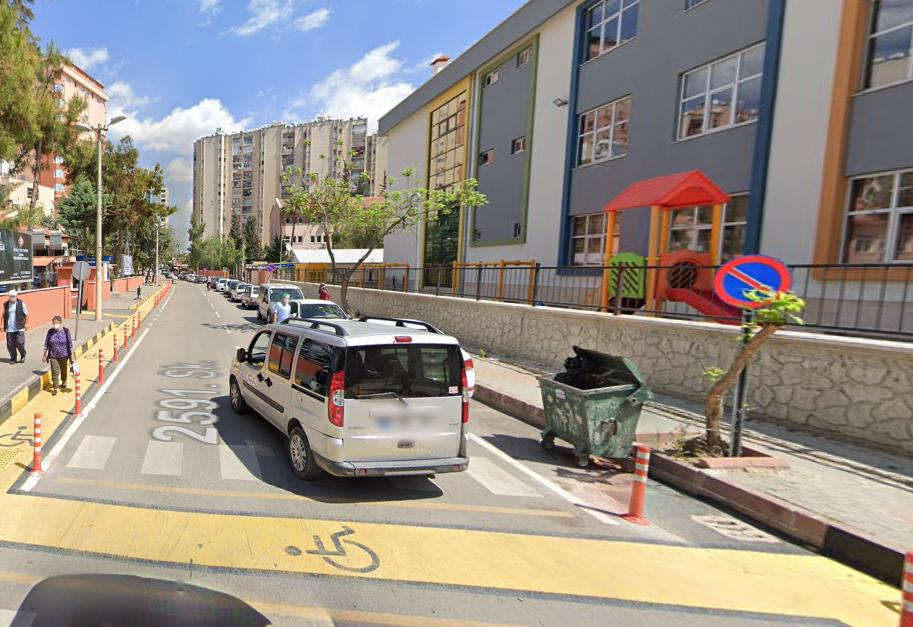nopark: (714, 254, 790, 311)
